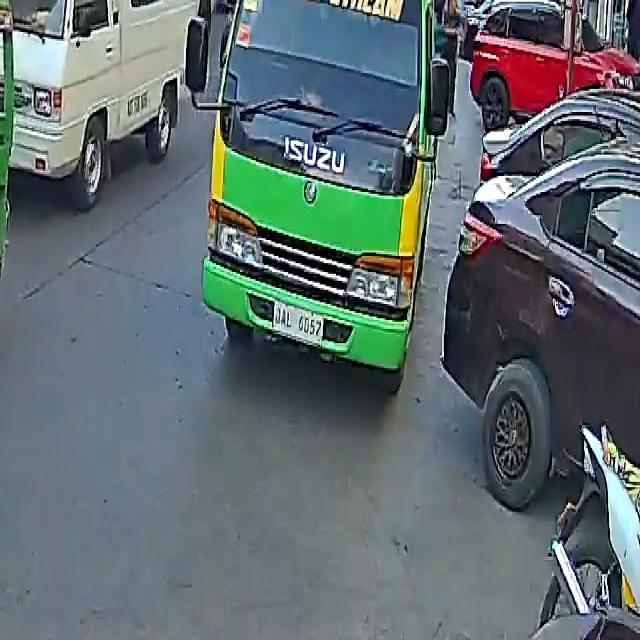car: (442, 101, 640, 514), (469, 0, 639, 130)
